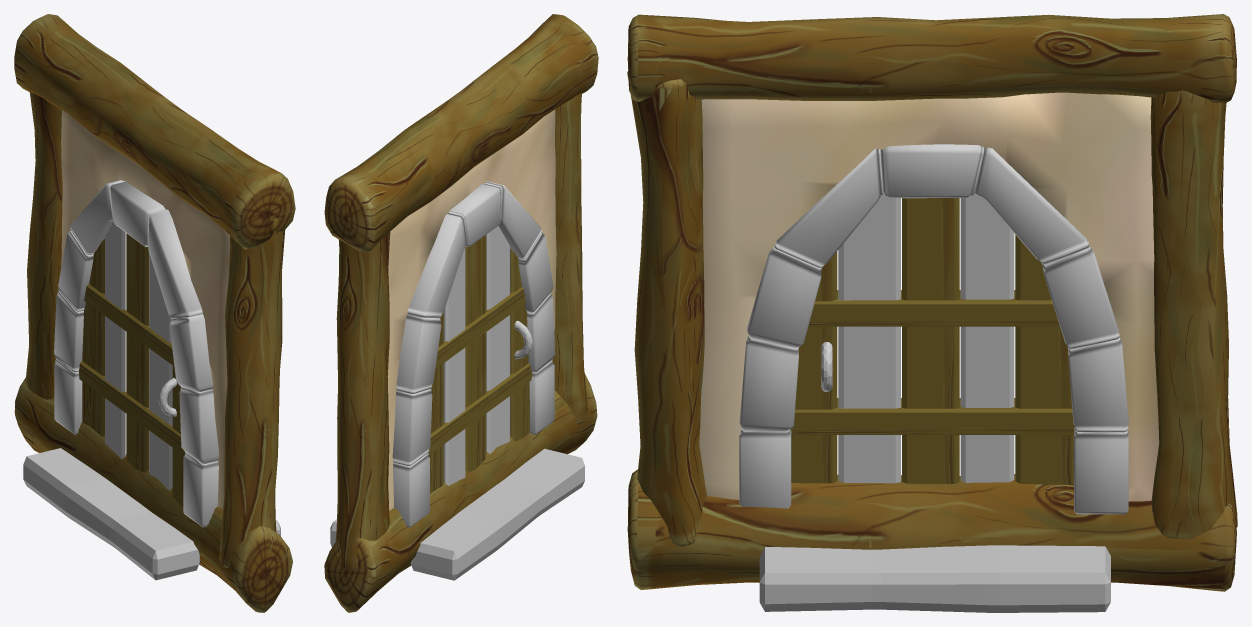
The model's file is WallWithDoor_3.fbx.
3 views of the same model, side by side, from view 1: azimuth 30°, elevation 25°; view 2: azimuth 150°, elevation 25°; view 3: azimuth 270°, elevation 25° (orthographic). The views are drawn at different scales.
Parts seen in each view (by area): view 1: Cube.035, Cube.034, WallWoodV.274, Cube.032, Cube.033, Cube.031; view 2: Cube.035, Cube.034, WallWoodV.274, Cube.031, Cube.033, Cube.032; view 3: Cube.035, WallWoodV.274, Cube.034, Cube.033, Cube.031, Cube.032.
Part boxes in pixels (bbox=[...]): Cube.035: bbox=[23, 110, 280, 580]; Cube.034: bbox=[14, 14, 295, 249]; WallWoodV.274: bbox=[79, 221, 185, 506]; Cube.032: bbox=[219, 218, 285, 567]; Cube.033: bbox=[14, 377, 292, 612]; Cube.031: bbox=[25, 92, 62, 399]; Cube.035: bbox=[330, 109, 584, 580]; Cube.034: bbox=[324, 14, 598, 252]; WallWoodV.274: bbox=[428, 226, 532, 493]; Cube.031: bbox=[335, 232, 390, 571]; Cube.033: bbox=[324, 373, 597, 612]; Cube.032: bbox=[552, 93, 588, 424]; Cube.035: bbox=[699, 92, 1159, 612]; WallWoodV.274: bbox=[790, 194, 1074, 484]; Cube.034: bbox=[627, 14, 1236, 103]; Cube.033: bbox=[627, 469, 1236, 591]; Cube.031: bbox=[1150, 90, 1237, 539]; Cube.032: bbox=[627, 71, 706, 546].
Size of the model in its own units: 0.7575 by 2.45 by 2.34.
